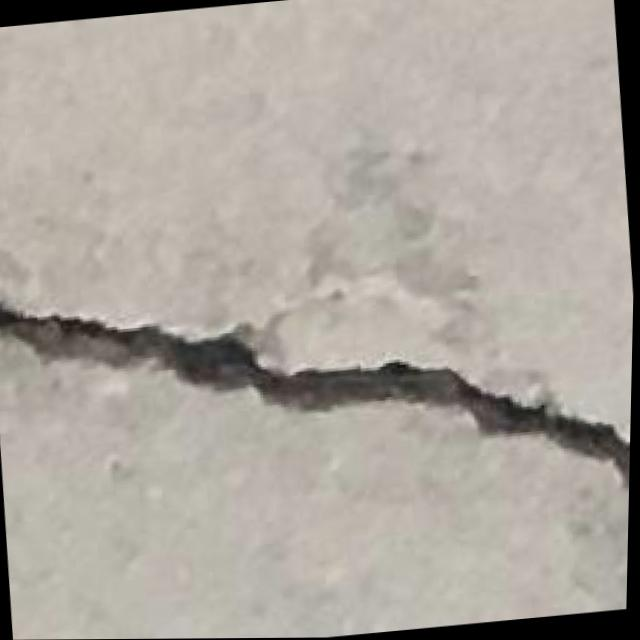Crack: (0, 228, 636, 554)
